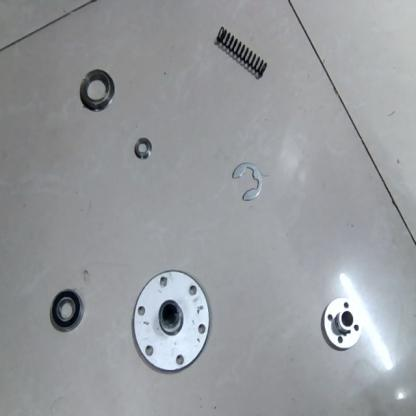FOD: (127, 264, 211, 380), (216, 23, 271, 82), (319, 298, 363, 352), (77, 68, 116, 114), (48, 288, 85, 334), (234, 164, 265, 201), (133, 134, 154, 160)
